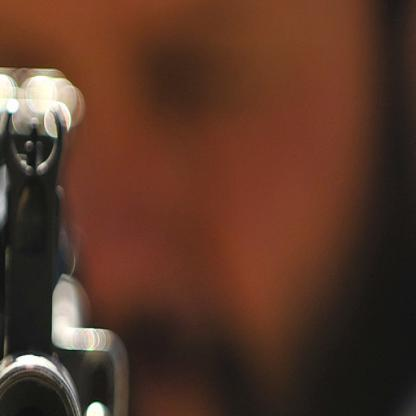gun: (0, 66, 129, 415)
